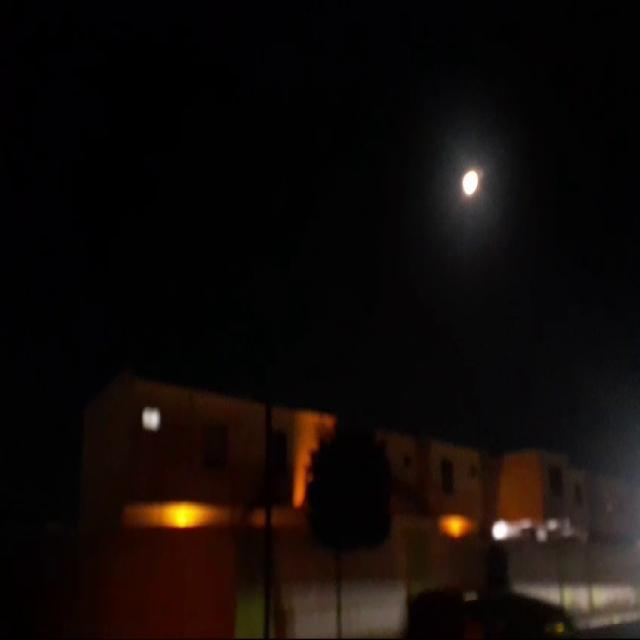moon: (469, 164, 488, 198)
